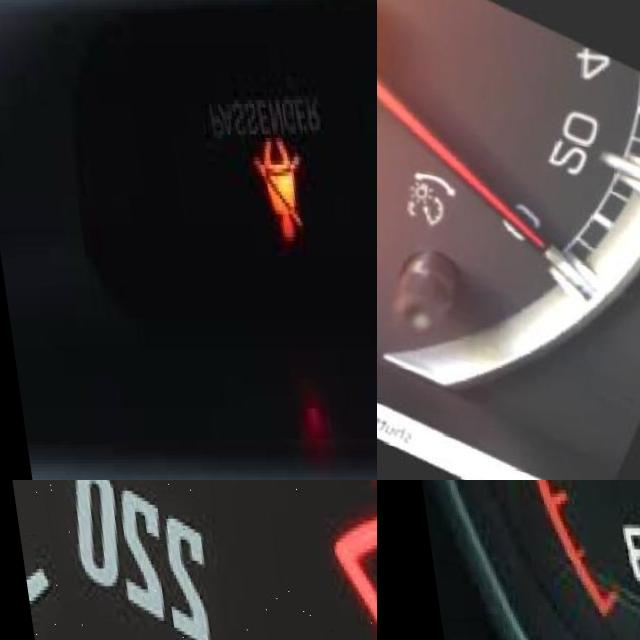Seat Belt: (248, 141, 302, 241)
